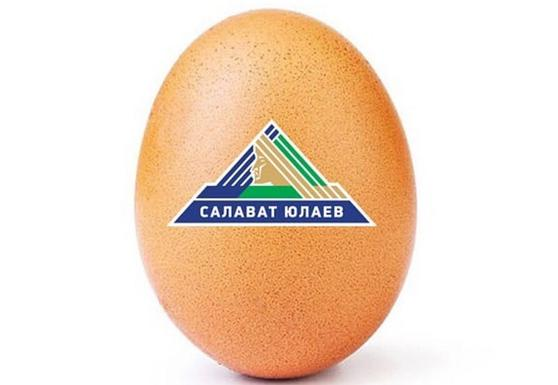egg: (139, 9, 423, 383)
